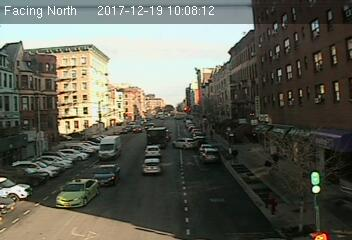car: (55, 177, 101, 206), (91, 163, 120, 187), (141, 157, 162, 174), (201, 148, 219, 163), (171, 138, 194, 149), (143, 145, 160, 158)
truck: (98, 136, 121, 161)
ups: (146, 127, 166, 147)
